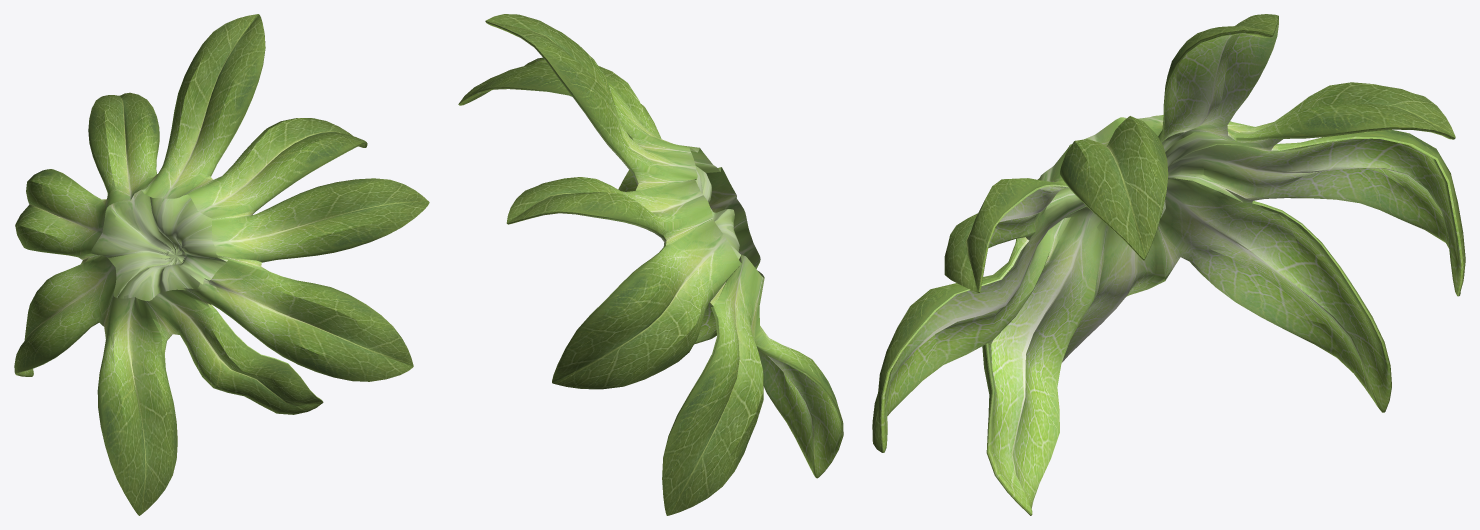
Rendered from leaves.obj.
3 renders of one model, left to right at view 1: azimuth 30°, elevation 25°; view 2: azimuth 150°, elevation 25°; view 3: azimuth 270°, elevation 25°, orthographic. The views are drawn at different scales.
Parts seen in each view (by area): view 1: dynamic; view 2: dynamic; view 3: dynamic.
Boxes of the visible parts, box(x1,y1,x2,y2) form: dynamic: box(14, 14, 429, 515); dynamic: box(458, 14, 843, 515); dynamic: box(872, 14, 1465, 515).
Bounding box in the file's own units: 0.2094 × 0.2624 × 0.2362.
1 material, 1 textured.
